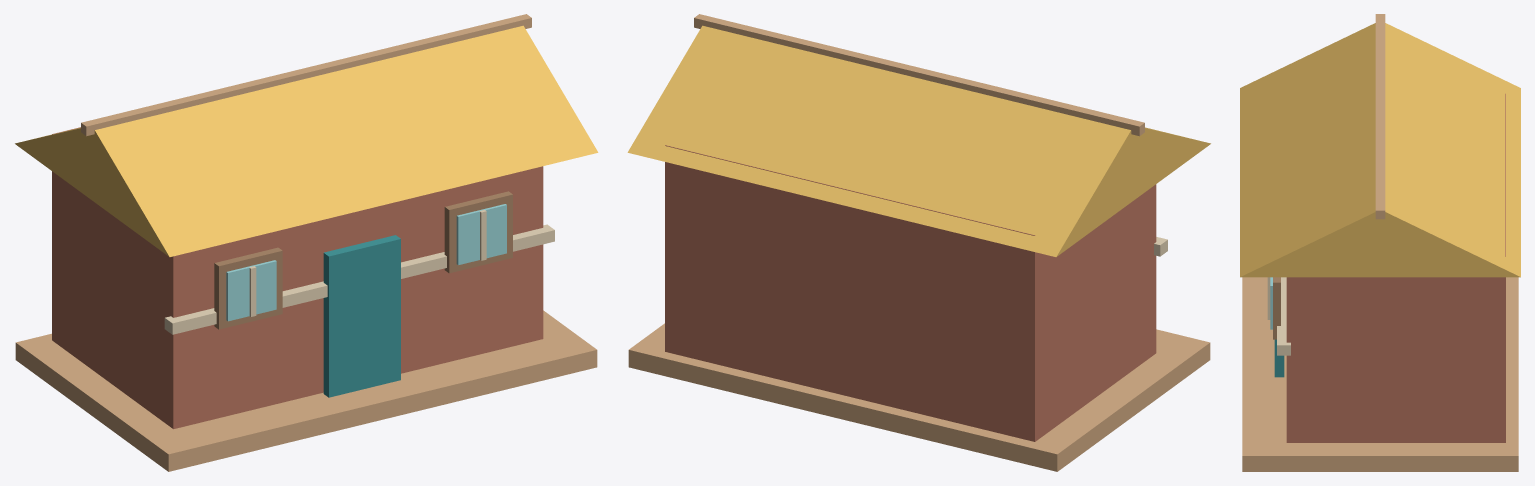
The model's file is env-station.glb.
3 views of the same model, side by side, from view 1: azimuth 30°, elevation 25°; view 2: azimuth 150°, elevation 25°; view 3: azimuth 270°, elevation 25° (orthographic). The views are drawn at different scales.
Parts seen in each view (by area): view 1: station roof, station walls, station foundation, station door, station roof ridge, station front trim, station left window glass, station right window glass, station left window frame, station right window frame; view 2: station walls, station roof, station foundation, station roof ridge; view 3: station roof, station walls, station foundation, station roof ridge, station front trim, station right window frame.
Boxes of the visible parts, x1=… form: station roof: x1=15, y1=25, x2=598, y2=256; station walls: x1=52, y1=127, x2=543, y2=429; station foundation: x1=15, y1=310, x2=597, y2=471; station door: x1=323, y1=235, x2=400, y2=397; station roof ridge: x1=81, y1=14, x2=531, y2=136; station front trim: x1=164, y1=224, x2=554, y2=334; station left window glass: x1=226, y1=260, x2=276, y2=321; station right window glass: x1=456, y1=204, x2=506, y2=264; station left window frame: x1=214, y1=247, x2=282, y2=329; station right window frame: x1=444, y1=191, x2=512, y2=273; station walls: x1=665, y1=145, x2=1156, y2=441; station roof: x1=627, y1=25, x2=1210, y2=256; station foundation: x1=628, y1=323, x2=1210, y2=471; station roof ridge: x1=694, y1=14, x2=1144, y2=136; station roof: x1=1240, y1=23, x2=1520, y2=277; station walls: x1=1286, y1=93, x2=1505, y2=442; station foundation: x1=1242, y1=277, x2=1518, y2=471; station roof ridge: x1=1375, y1=14, x2=1385, y2=219; station front trim: x1=1277, y1=277, x2=1290, y2=355; station right window frame: x1=1273, y1=277, x2=1280, y2=339.
Bounding box in the file's own units: 5.3 × 3.33 × 3.2.
